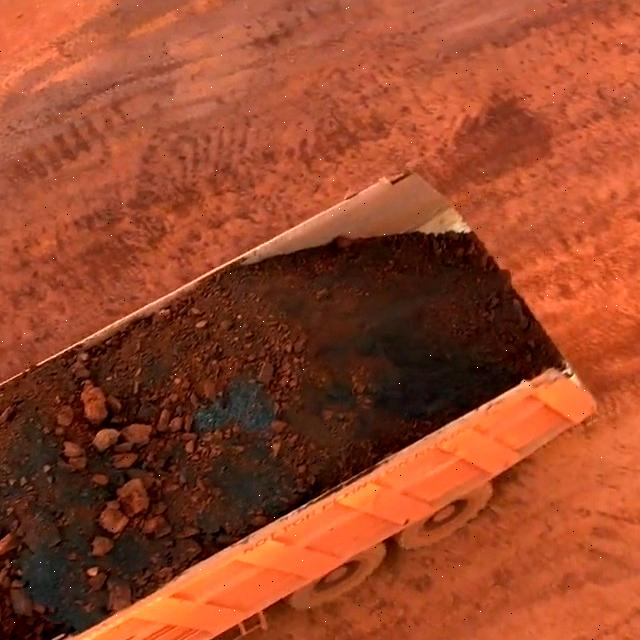Dumper truck: (28, 305, 536, 549)
